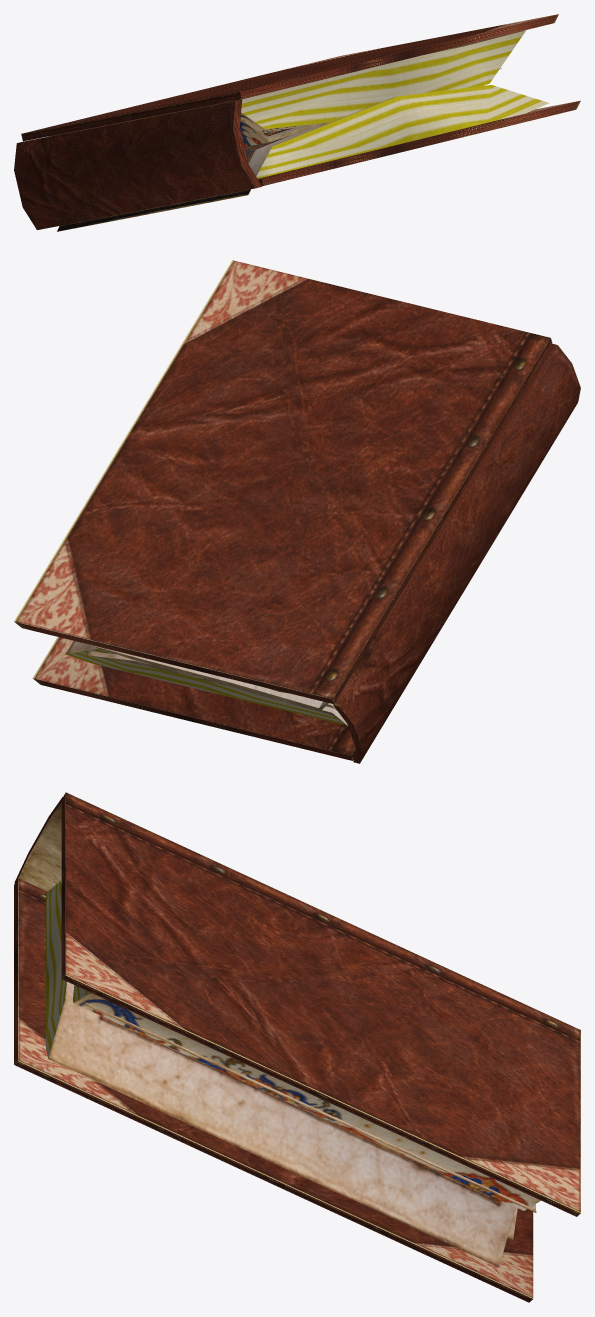
Rendered from mm9_deco_booktilt.glb.
The picture shows the model from 3 angles, top to bottom: view 1: azimuth 30°, elevation 25°; view 2: azimuth 150°, elevation 25°; view 3: azimuth 270°, elevation 25°; orthographic projection. The views are drawn at different scales.
Parts seen in each view (by area): view 1: Booktilt; view 2: Booktilt; view 3: Booktilt.
Boxes of the visible parts, left/top/right/bottom form: Booktilt: left=14, top=14, right=580, bottom=231; Booktilt: left=14, top=260, right=580, bottom=763; Booktilt: left=14, top=792, right=580, bottom=1302.
Size of the model in its own units: 0.3948 by 0.3166 by 0.4916.
Materials: 1 (1 with a texture image).
